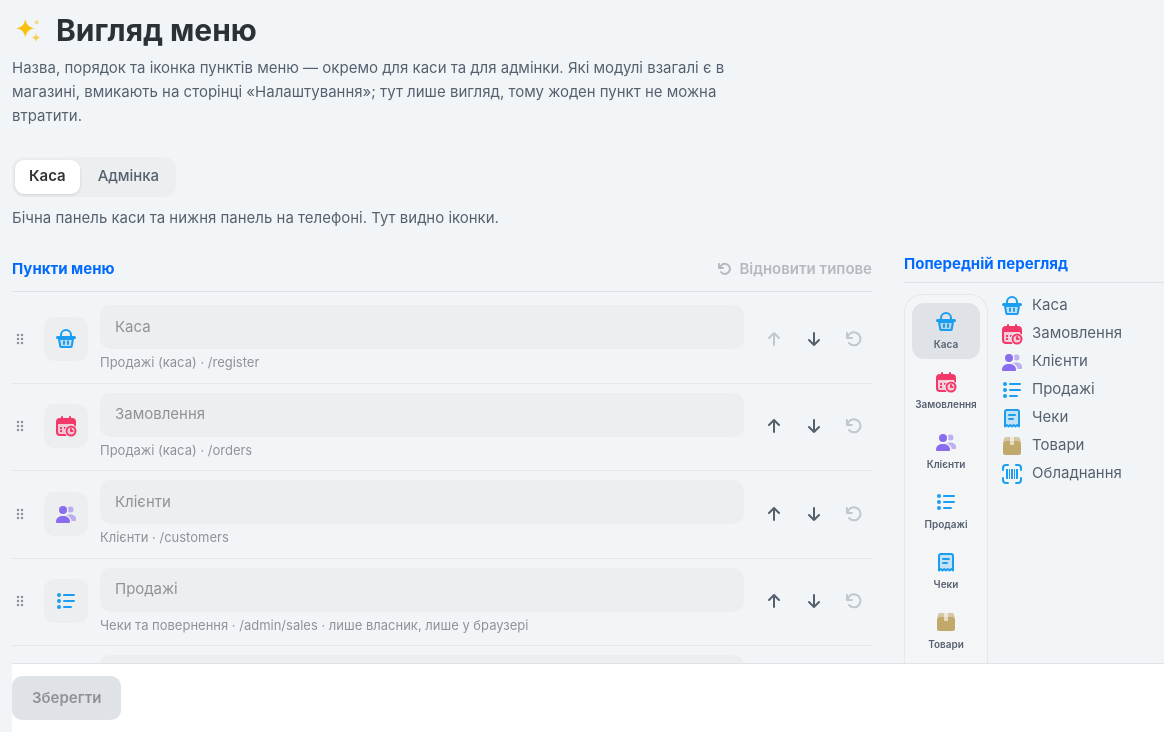
it: AppearancePage › leaves no trace when an entry is moved back where it started
Click the button named "Нижче" in the row of "/register".
click(814, 339)  # box [796, 321, 832, 357]
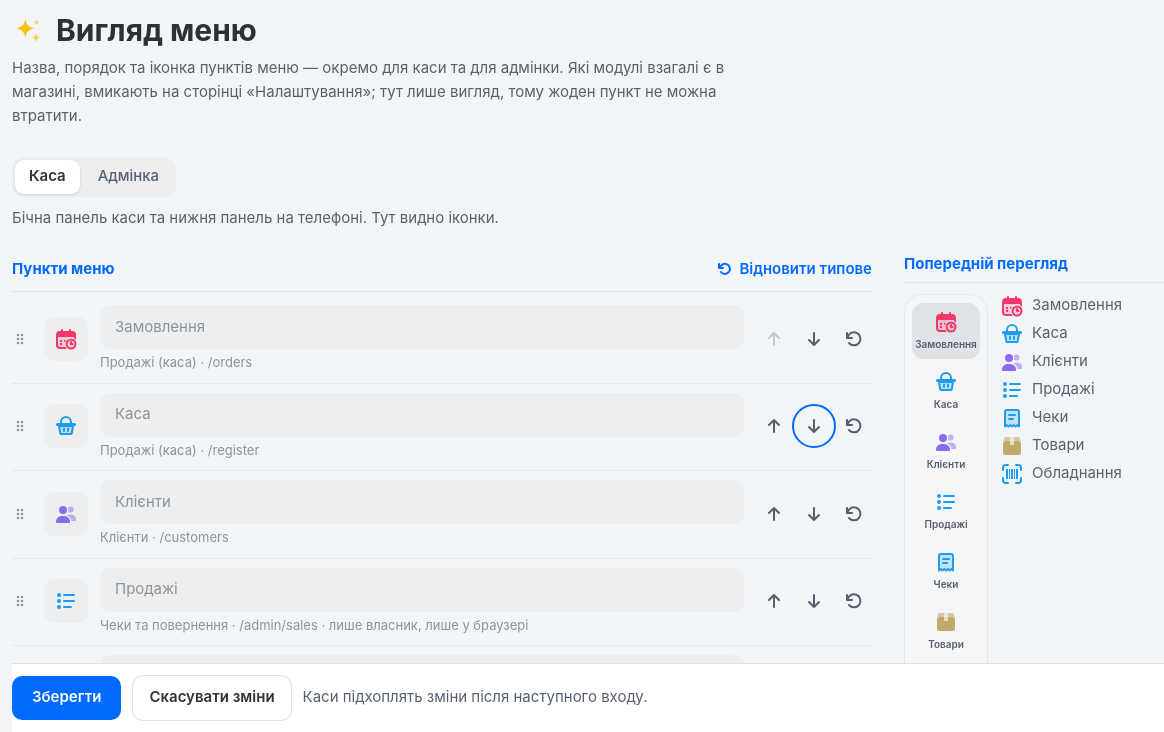
Click the button named "Вище" in the row of "/register".
click(774, 426)  # box [756, 408, 792, 444]
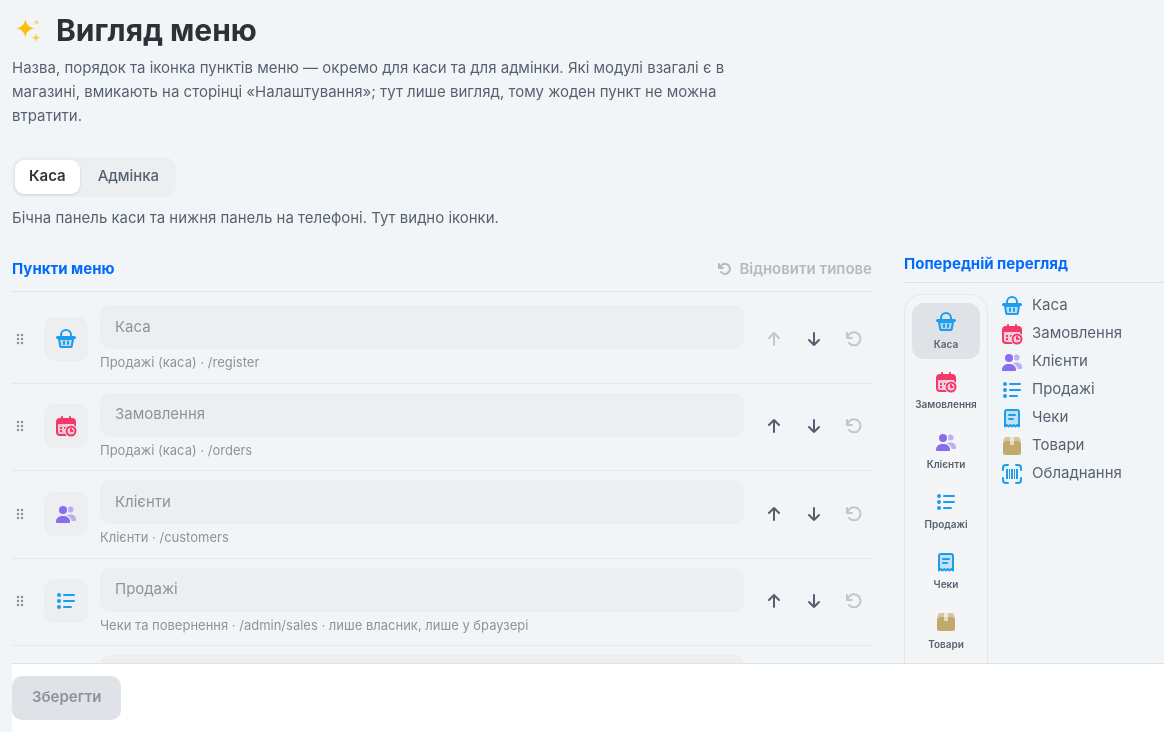
Expected: the button "Зберегти" is disabled, [12, 676, 122, 720]
